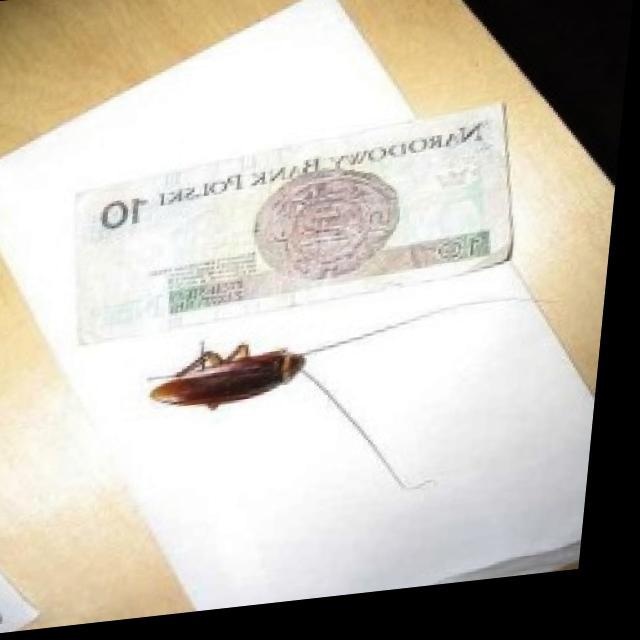cockroach: (142, 317, 341, 455)
